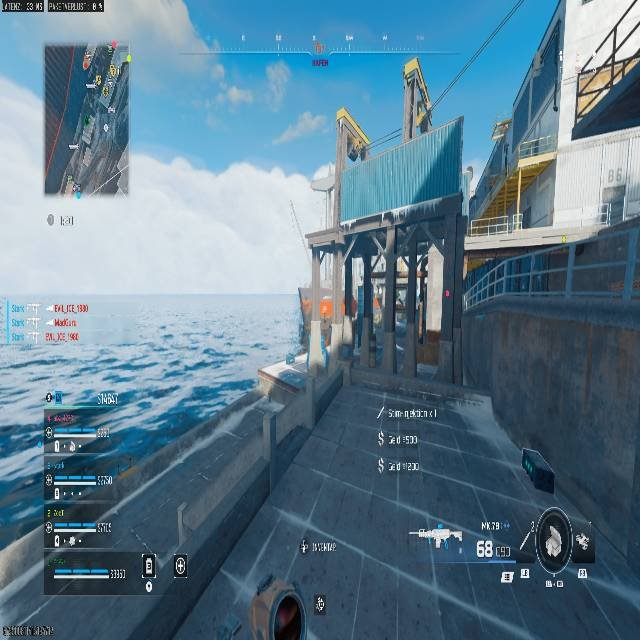player: (264, 60, 291, 111)
